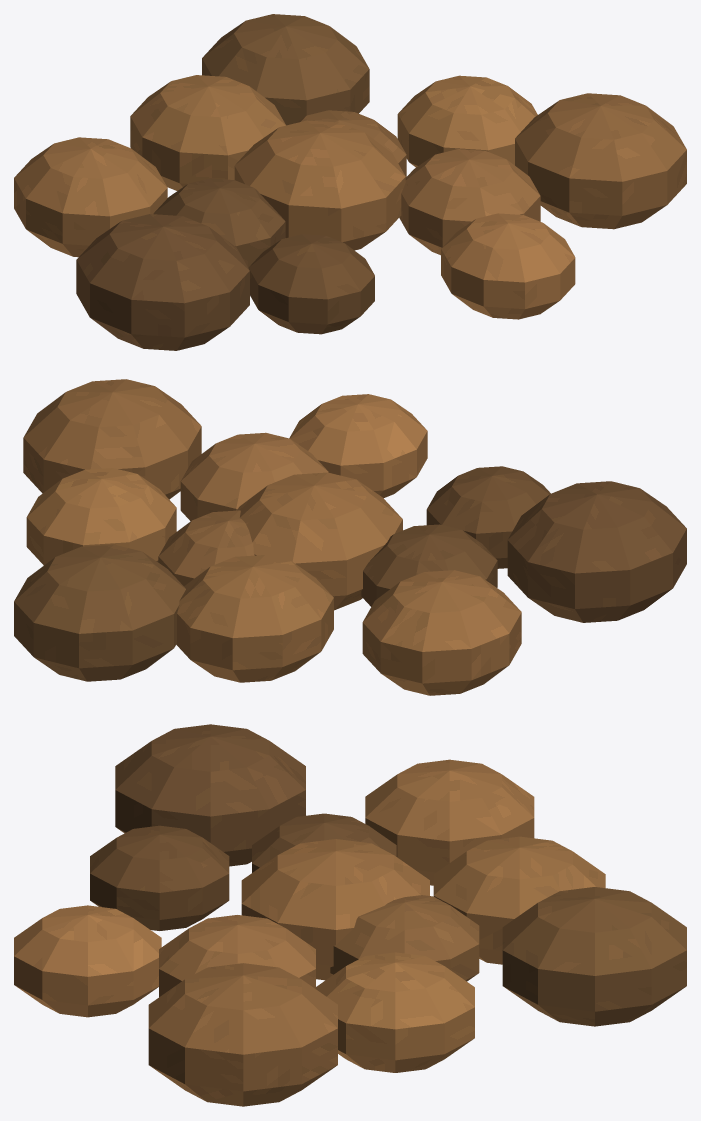
The model's file is threshed_barley.glb.
3 renders of one model, top to bottom at view 1: azimuth 30°, elevation 25°; view 2: azimuth 150°, elevation 25°; view 3: azimuth 270°, elevation 25°, orthographic. The views are drawn at different scales.
Visible parts, largest first — view 1: block_grain 10, block_grain 11, block_grain 0, block_grain 7, block_grain 9, block_grain 4, block_grain 8, block_grain 5, block_grain 3, block_grain 6, block_grain 2, block_grain 1; view 2: block_grain 10, block_grain 9, block_grain 4, block_grain 7, block_grain 11, block_grain 0, block_grain 6, block_grain 8, block_grain 3, block_grain 5, block_grain 2, block_grain 1; view 3: block_grain 11, block_grain 9, block_grain 10, block_grain 6, block_grain 0, block_grain 7, block_grain 8, block_grain 5, block_grain 4, block_grain 1, block_grain 3, block_grain 2.
Part boxes in pixels (x1,y1,x2,y2): block_grain 10: [76, 214, 249, 350]; block_grain 11: [515, 93, 686, 229]; block_grain 0: [234, 120, 405, 250]; block_grain 7: [14, 137, 167, 257]; block_grain 9: [202, 14, 369, 125]; block_grain 4: [130, 75, 285, 190]; block_grain 8: [441, 213, 575, 319]; block_grain 5: [248, 234, 374, 334]; block_grain 3: [399, 149, 540, 255]; block_grain 6: [397, 75, 537, 167]; block_grain 2: [153, 178, 285, 267]; block_grain 1: [296, 110, 406, 177]; block_grain 10: [507, 481, 686, 622]; block_grain 9: [14, 544, 185, 681]; block_grain 4: [176, 555, 333, 682]; block_grain 7: [362, 570, 521, 695]; block_grain 11: [23, 379, 201, 499]; block_grain 0: [237, 472, 402, 610]; block_grain 6: [26, 468, 176, 565]; block_grain 8: [289, 394, 427, 498]; block_grain 3: [180, 432, 328, 521]; block_grain 5: [426, 466, 550, 568]; block_grain 2: [361, 524, 497, 606]; block_grain 1: [158, 510, 254, 586]; block_grain 11: [148, 963, 337, 1106]; block_grain 9: [502, 887, 686, 1026]; block_grain 10: [115, 724, 305, 866]; block_grain 6: [315, 952, 474, 1072]; block_grain 0: [241, 839, 429, 980]; block_grain 7: [365, 759, 534, 885]; block_grain 8: [14, 905, 161, 1017]; block_grain 5: [90, 825, 229, 930]; block_grain 4: [433, 836, 605, 964]; block_grain 1: [330, 895, 479, 981]; block_grain 3: [159, 915, 315, 996]; block_grain 2: [252, 813, 396, 872].
Size of the model in its own units: 0.1143 by 0.0203 by 0.1034.
Materials: 1 (1 with a texture image).
